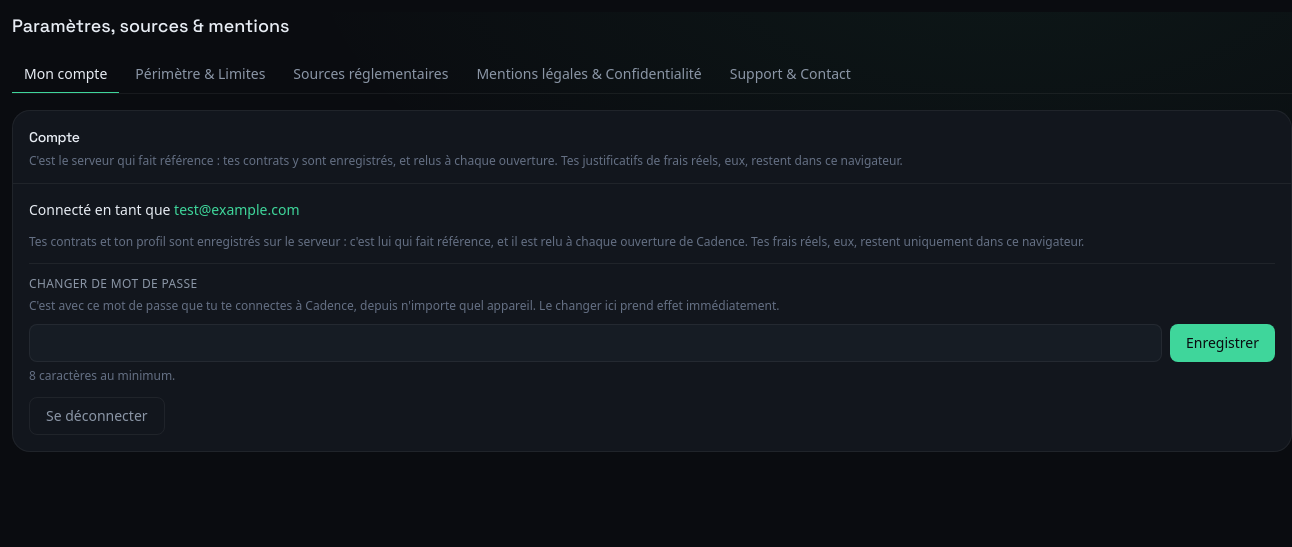
Test: ParametresSourcesEtMentions — les cinq sous-sections › bascule vers « Sources réglementaires » et affiche l'édition en vigueur
The image size is (1292, 547).
Click the button "Sources réglementaires": (371, 75) 281,56 -> 460,94
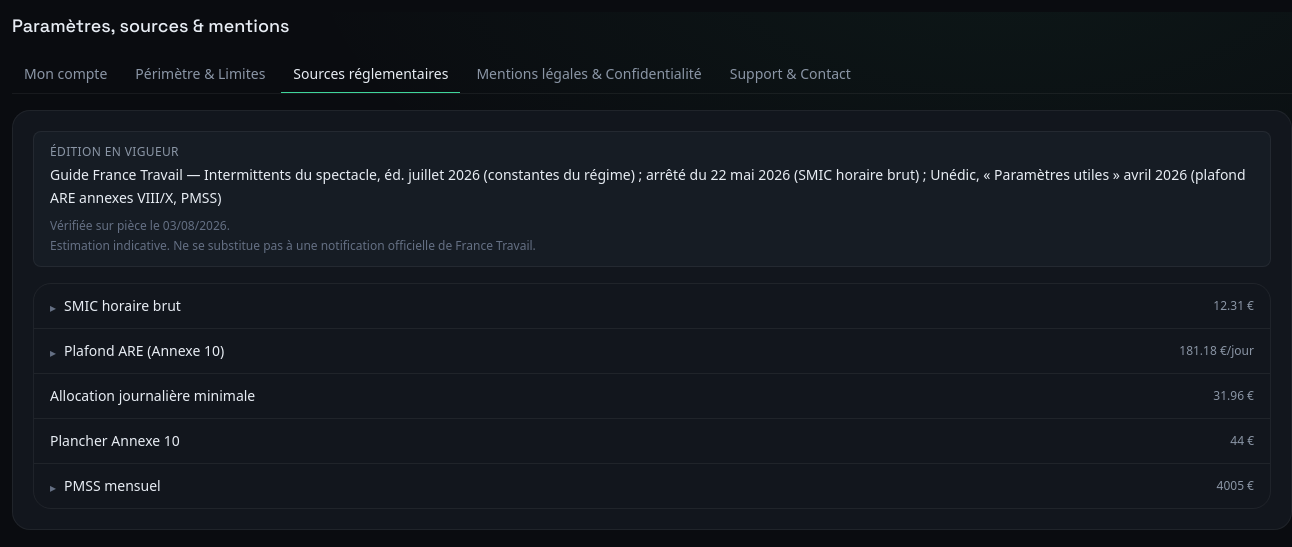
Expected: the text "181.18 €/jour" is shown, 1179,342 -> 1254,358
